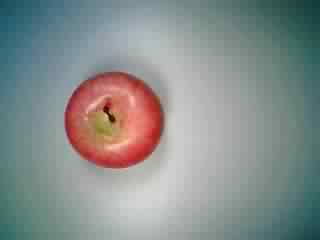apple: (62, 68, 168, 172)
